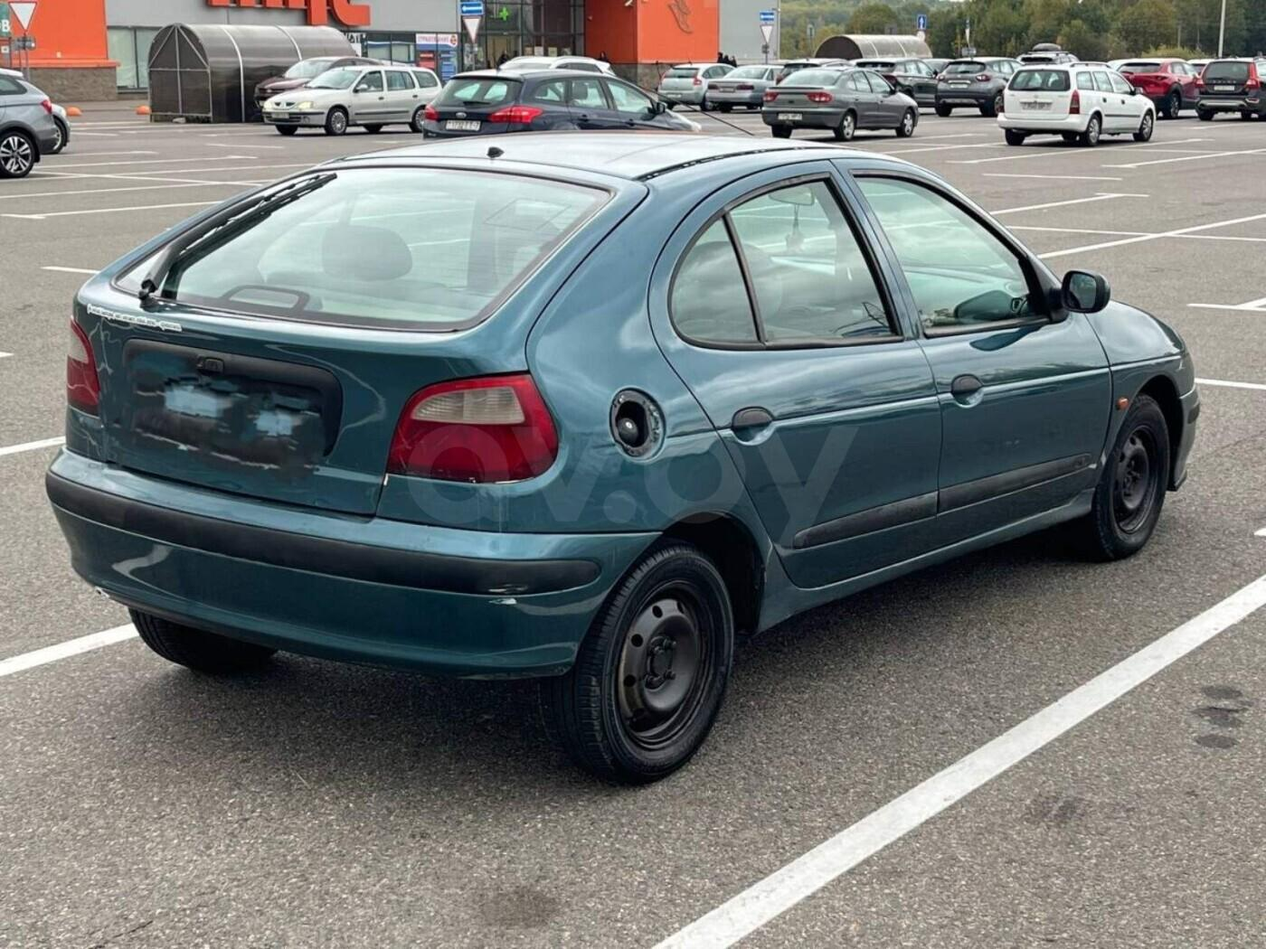Megane_1995-1999: (39, 132, 1201, 785)
